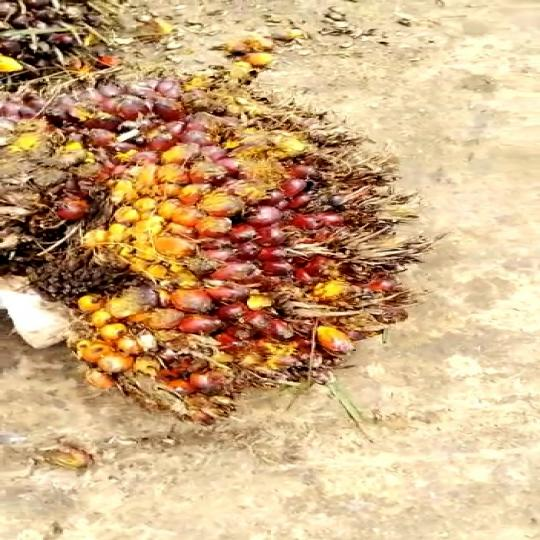masak: (4, 78, 463, 434)
